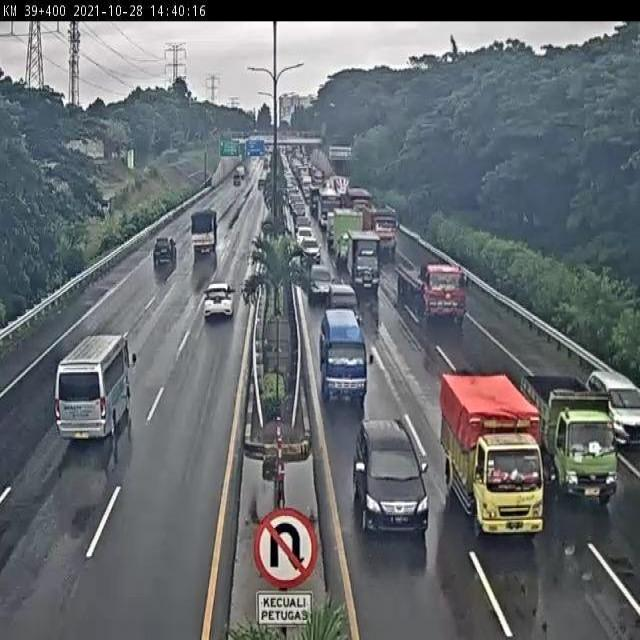bus-s-: (316, 311, 369, 401)
car: (349, 417, 430, 535), (585, 365, 640, 447), (326, 281, 361, 323), (202, 279, 235, 320), (308, 263, 336, 301), (152, 233, 177, 266), (300, 236, 323, 265)
small bus: (56, 329, 134, 439)
small truck: (188, 207, 217, 250)
truck-l-: (358, 202, 398, 258)
truck-m-: (439, 369, 547, 539), (518, 369, 619, 504), (348, 228, 381, 292), (333, 205, 363, 264)
truck-xl-: (392, 259, 465, 320)
